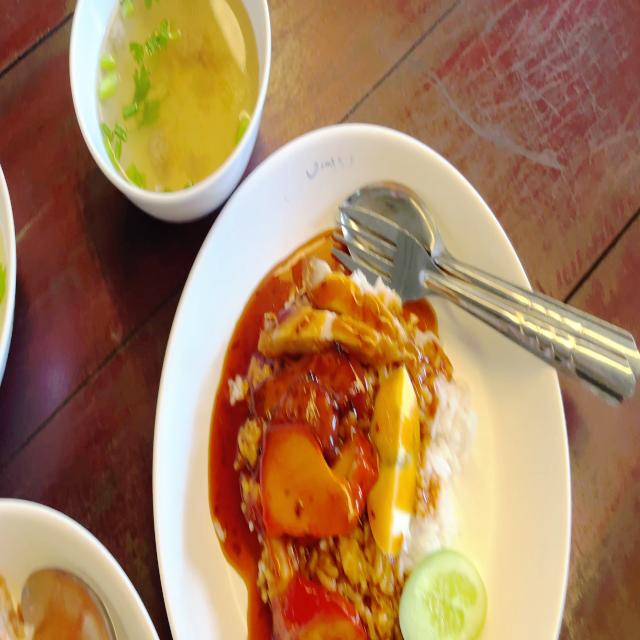boiled_egg: (367, 362, 422, 554)
chainese_sausage: (264, 351, 364, 438)
crispy_pork: (260, 259, 412, 360)
red_pork: (260, 423, 370, 530), (268, 573, 366, 640)
red_pork_and_crispy_pork: (226, 252, 492, 640)
